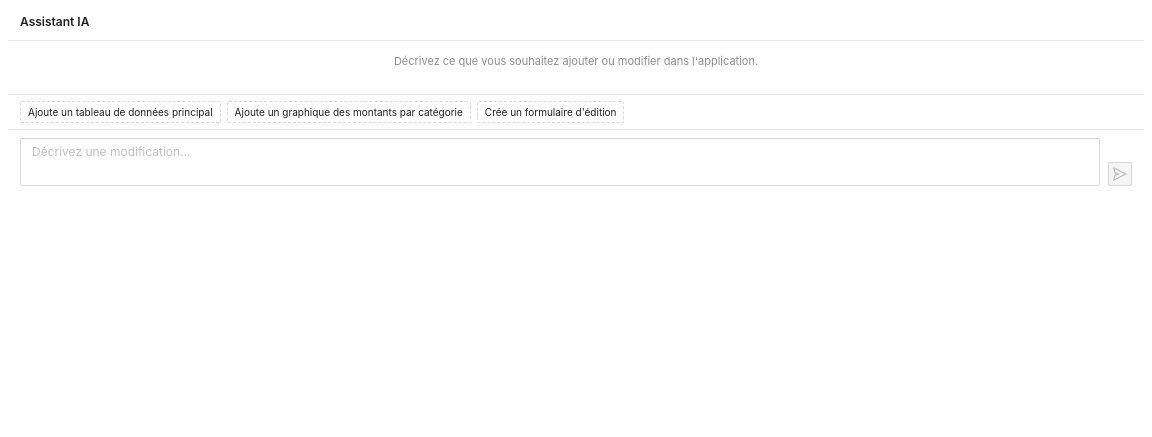
Test: AiAssistant — réponse valide › affiche le SQL généré dans la bulle assistant quand le patch contient upsertQuery
The image size is (1152, 437).
In the text box with placeholder "Décrivez une modification…": (560, 162) [20, 138, 1100, 186], type "Crée une requête"
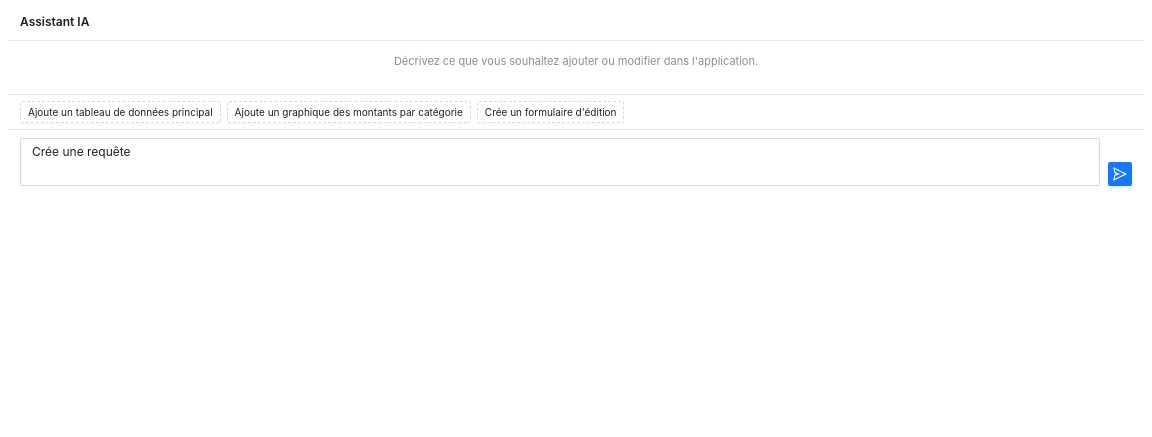
Click the button named "envoyer": (1120, 174) [1108, 162, 1132, 186]
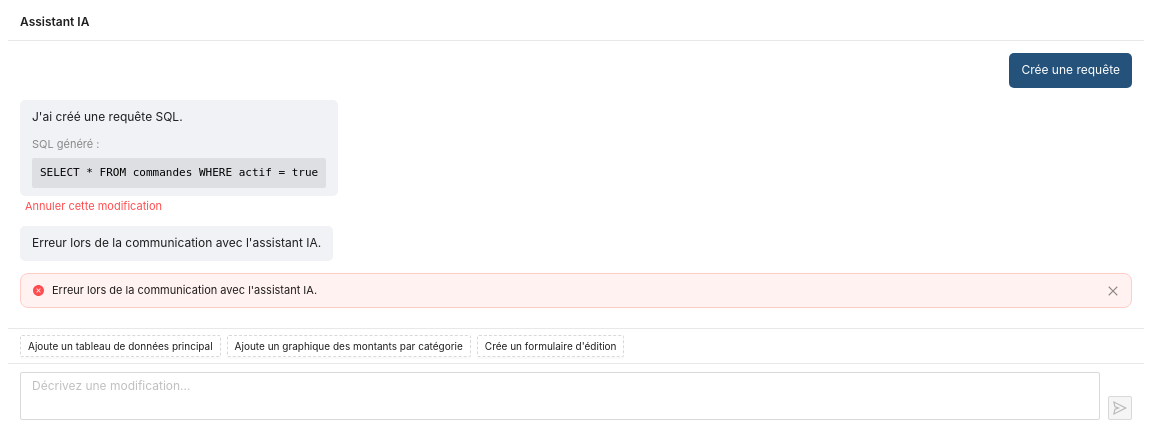
Expected: the text "SQL généré :" is shown, [32, 137, 100, 151]
Expected: the text "SELECT * FROM commandes WHERE actif = true" is shown, [32, 158, 326, 188]
